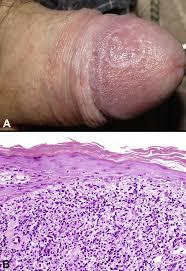annular lichen planus: (96, 27, 151, 78)
